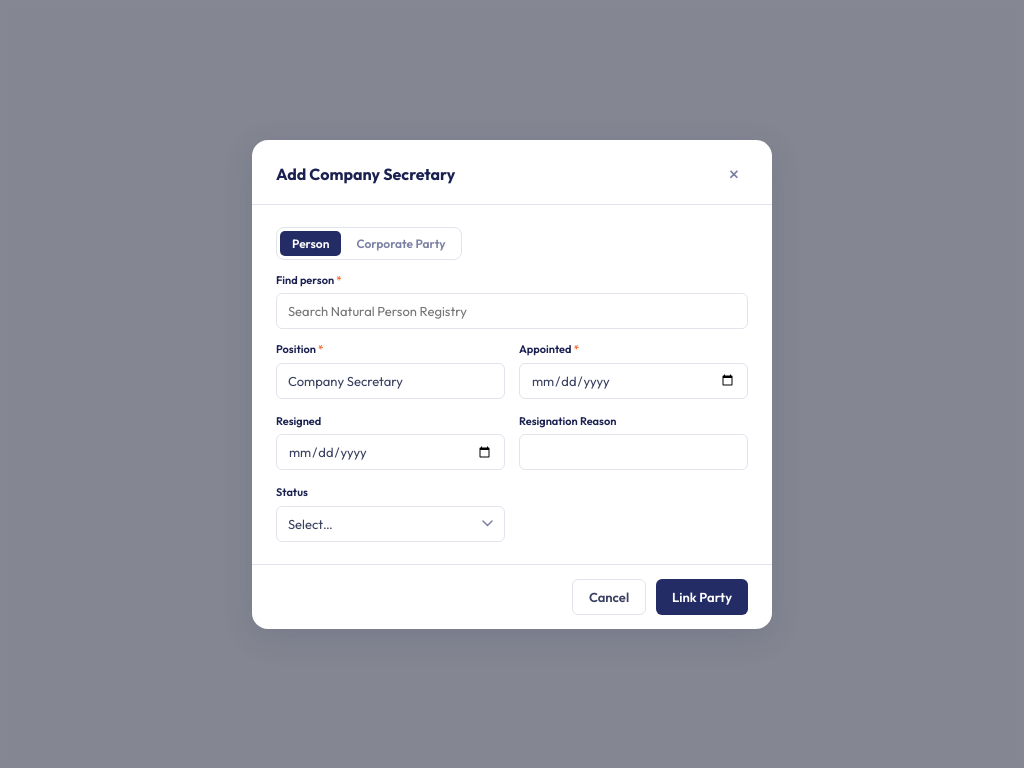
Test: LinkPartyModal › will not add a secretary with no appointment date
Type "john" into the field named "Search parties" at (512, 311), box [276,293,748,329]
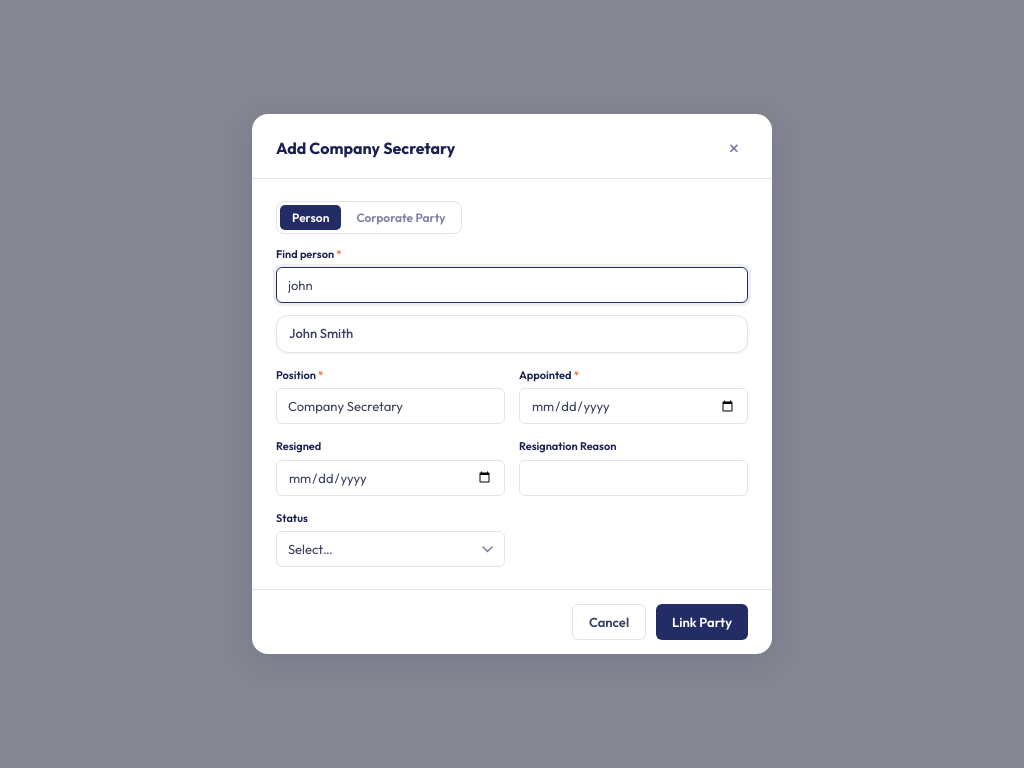
Click the text "John Smith" at (321, 334), box [289,324,353,344]
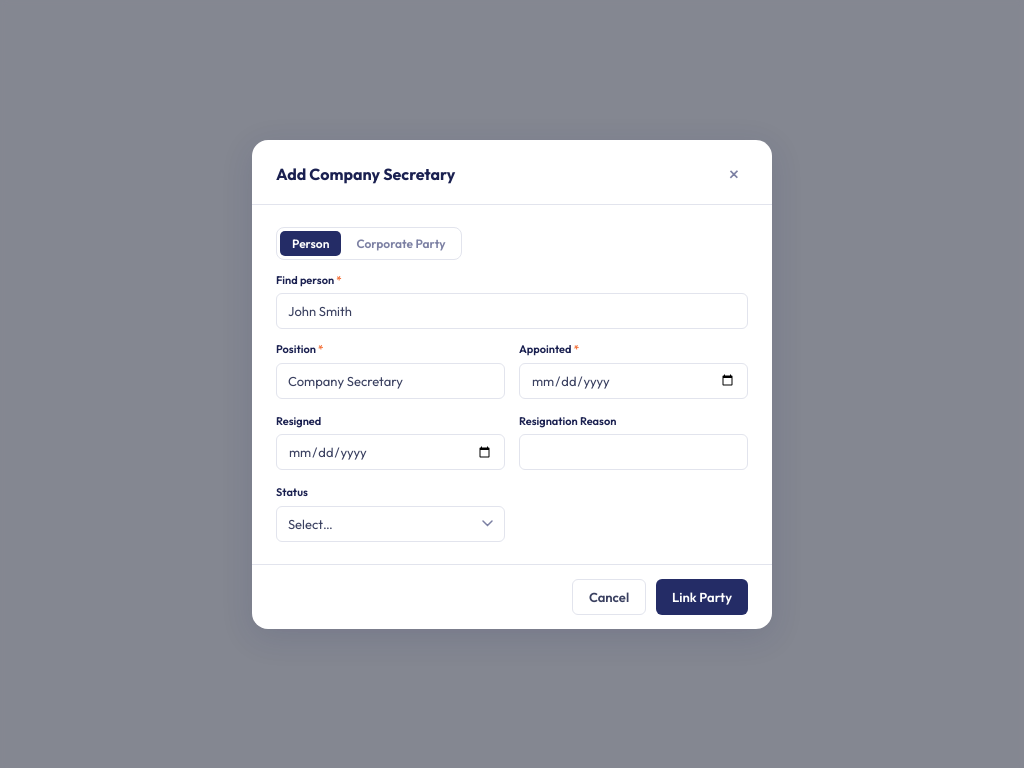
Click the button "Link Party" at (702, 596), box [656,578,748,614]
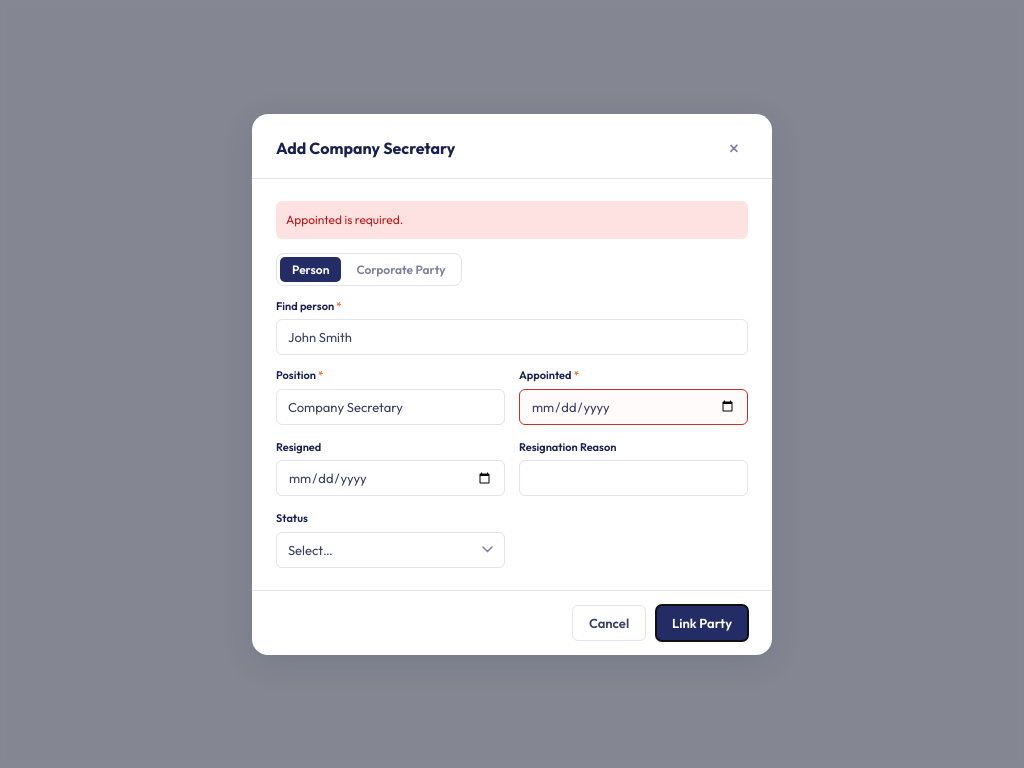
Result: the text "Appointed is required." is shown at [276,200,748,238]
